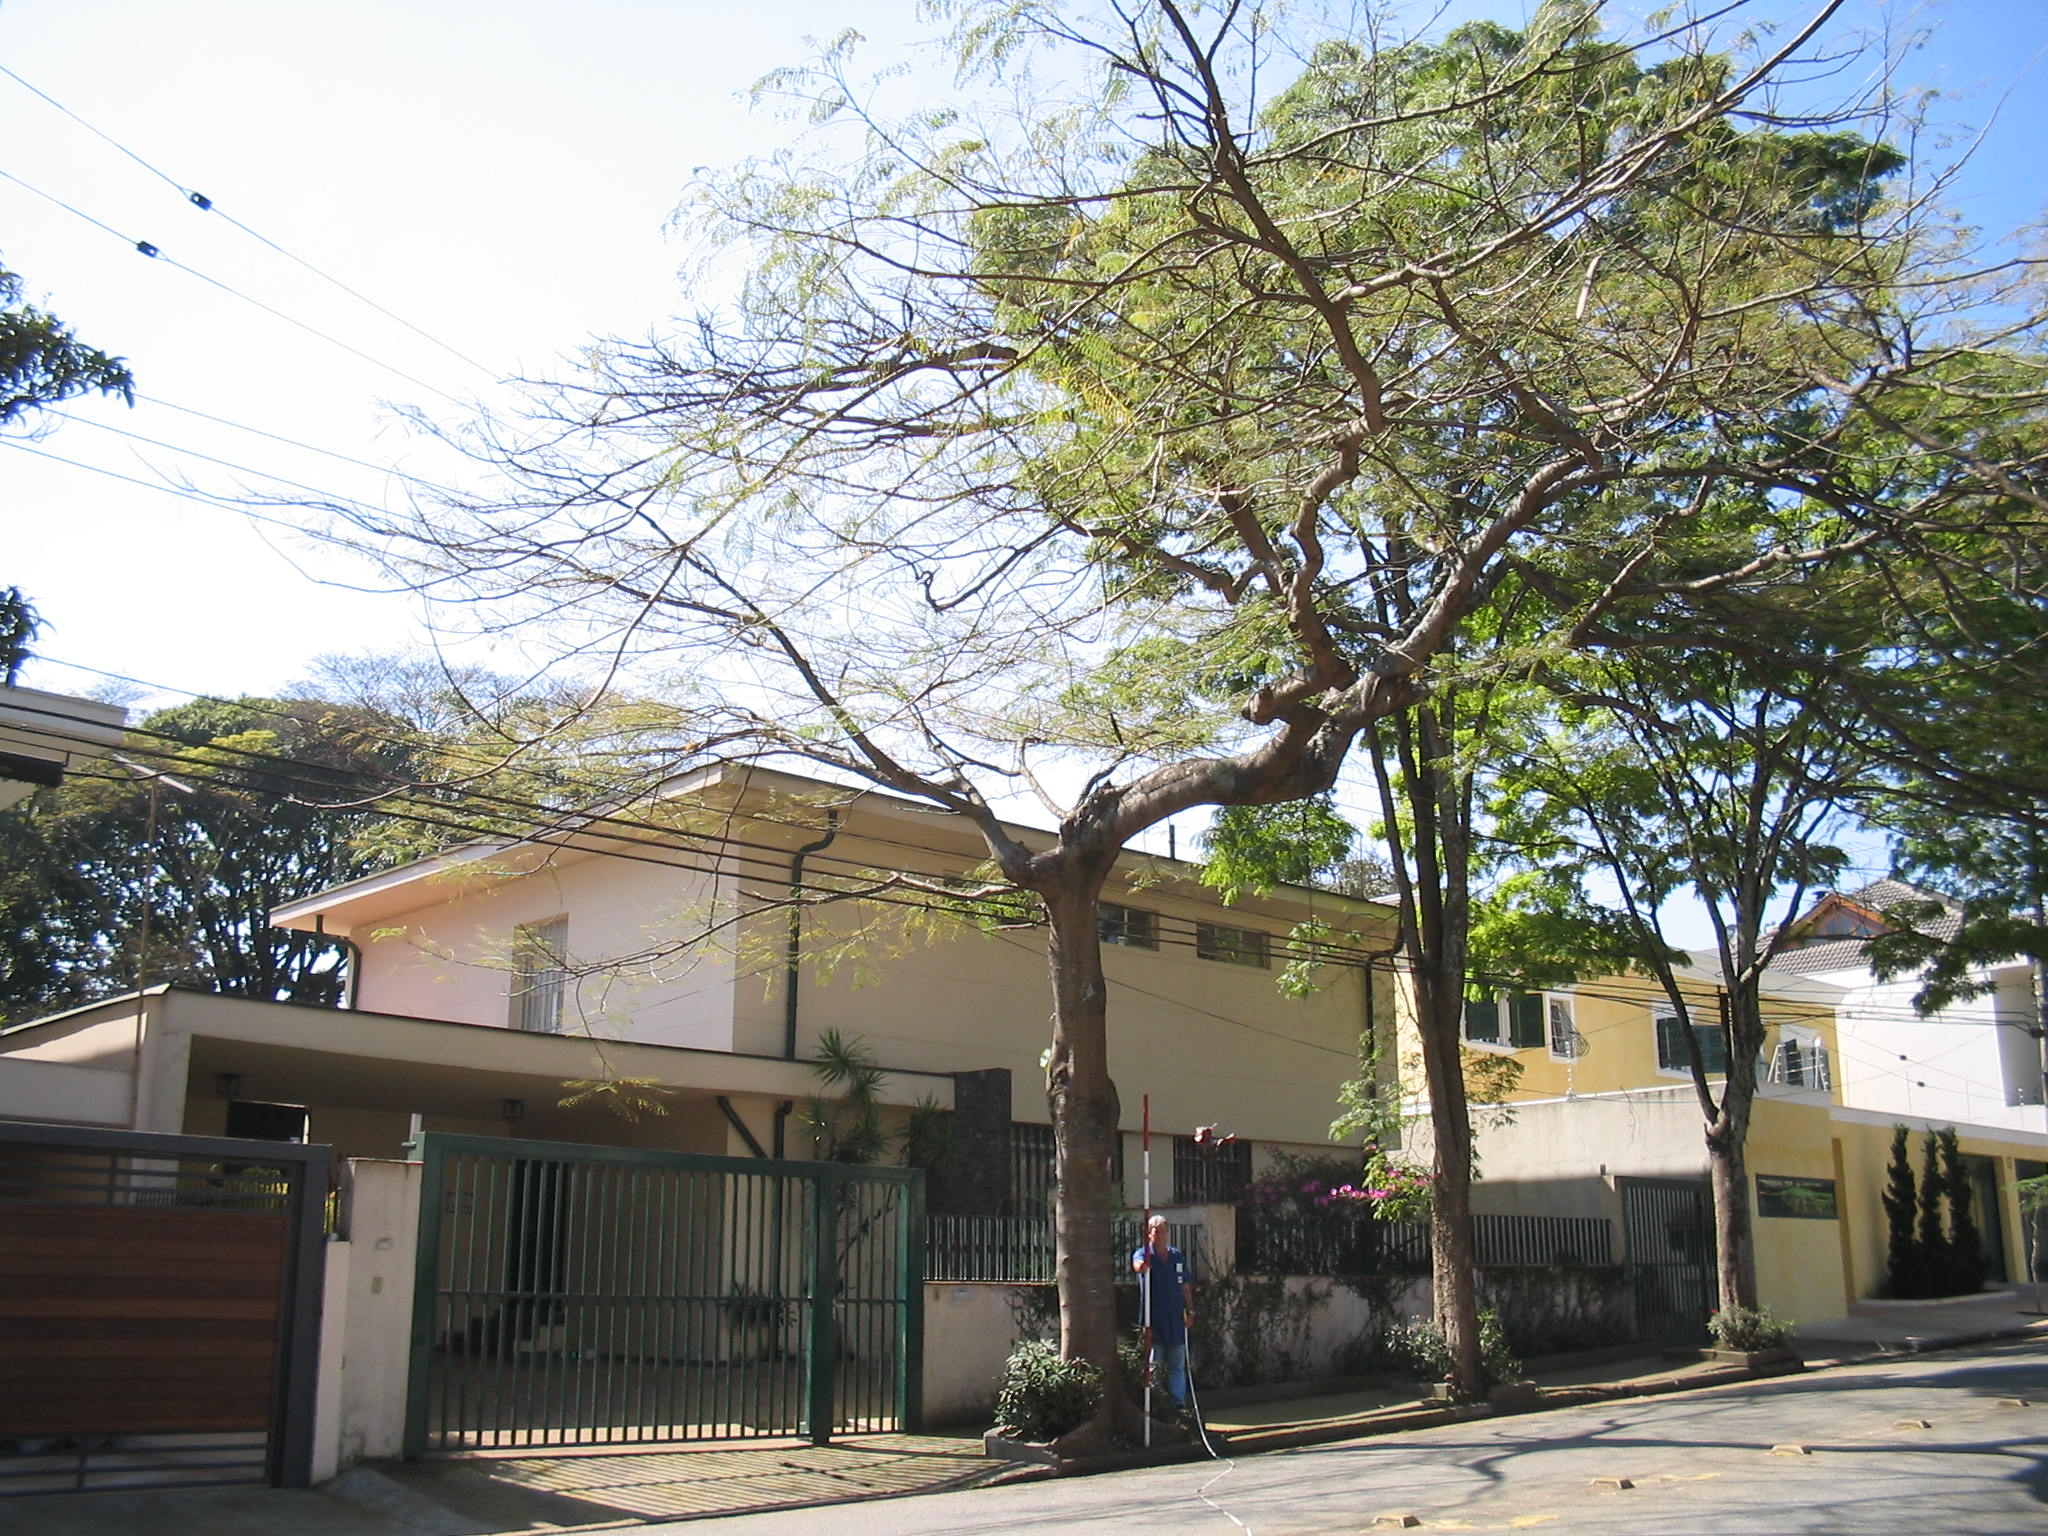crown: (1126, 11, 1879, 734)
stem: (998, 878, 1142, 1447), (1405, 1137, 1509, 1391), (1684, 1118, 1779, 1352)
stick: (1129, 1092, 1163, 1452)
tree: (137, 186, 1622, 1446), (1119, 6, 1882, 1396), (1488, 360, 2045, 1352)
